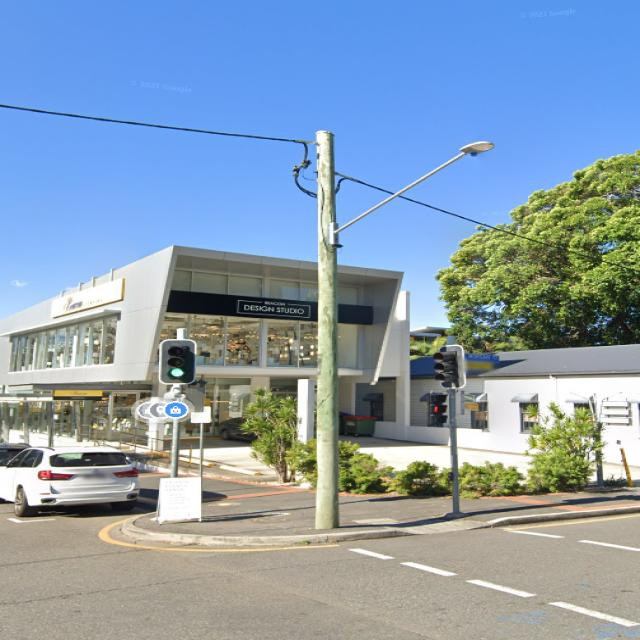steel-pole: (442, 335, 464, 518), (170, 326, 188, 478)
streetlight: (332, 139, 496, 239)
timber-pole: (313, 128, 340, 530)
top mount pole: (312, 129, 341, 530)
traffic pole: (424, 334, 468, 518), (162, 327, 200, 478)
traffic-light: (158, 338, 198, 384), (432, 344, 466, 389), (424, 392, 449, 426)
